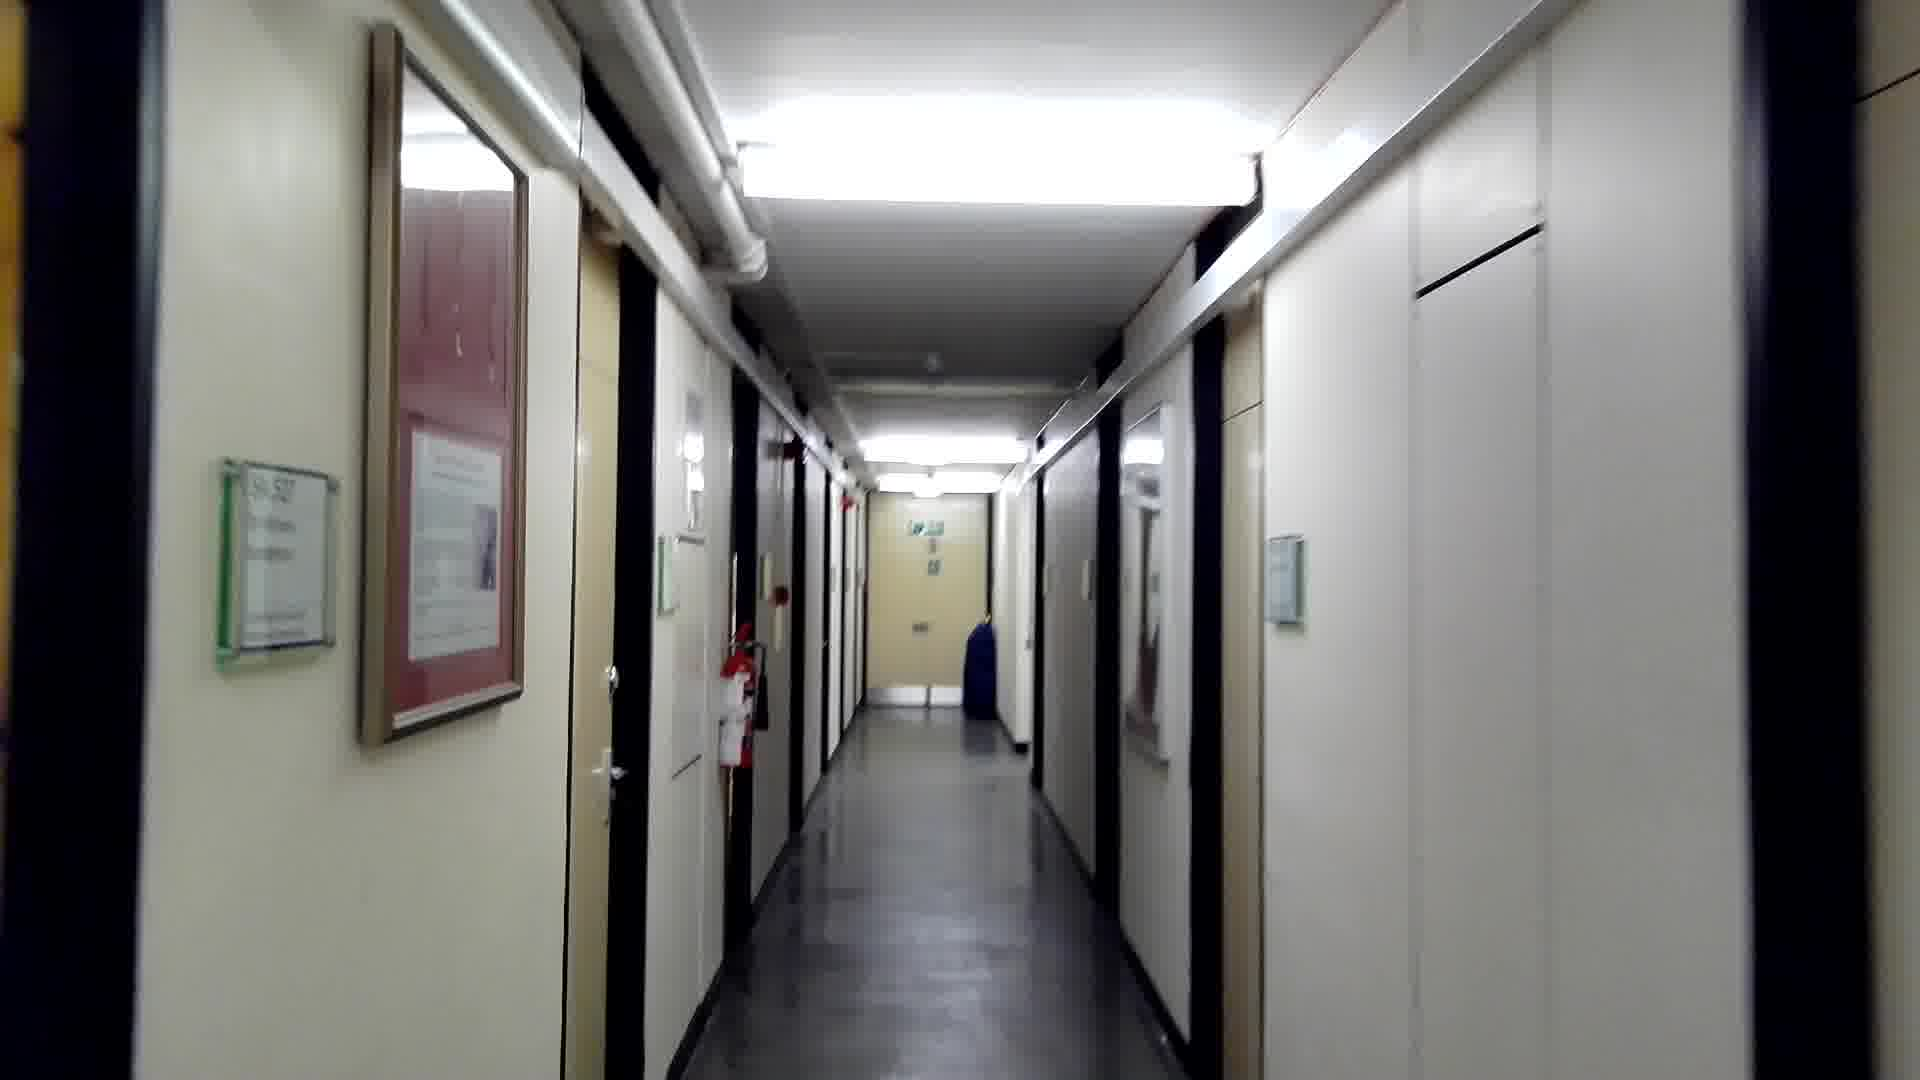Bin: (960, 611, 1001, 724)
Door: (568, 173, 647, 1080), (1184, 265, 1271, 1080)
